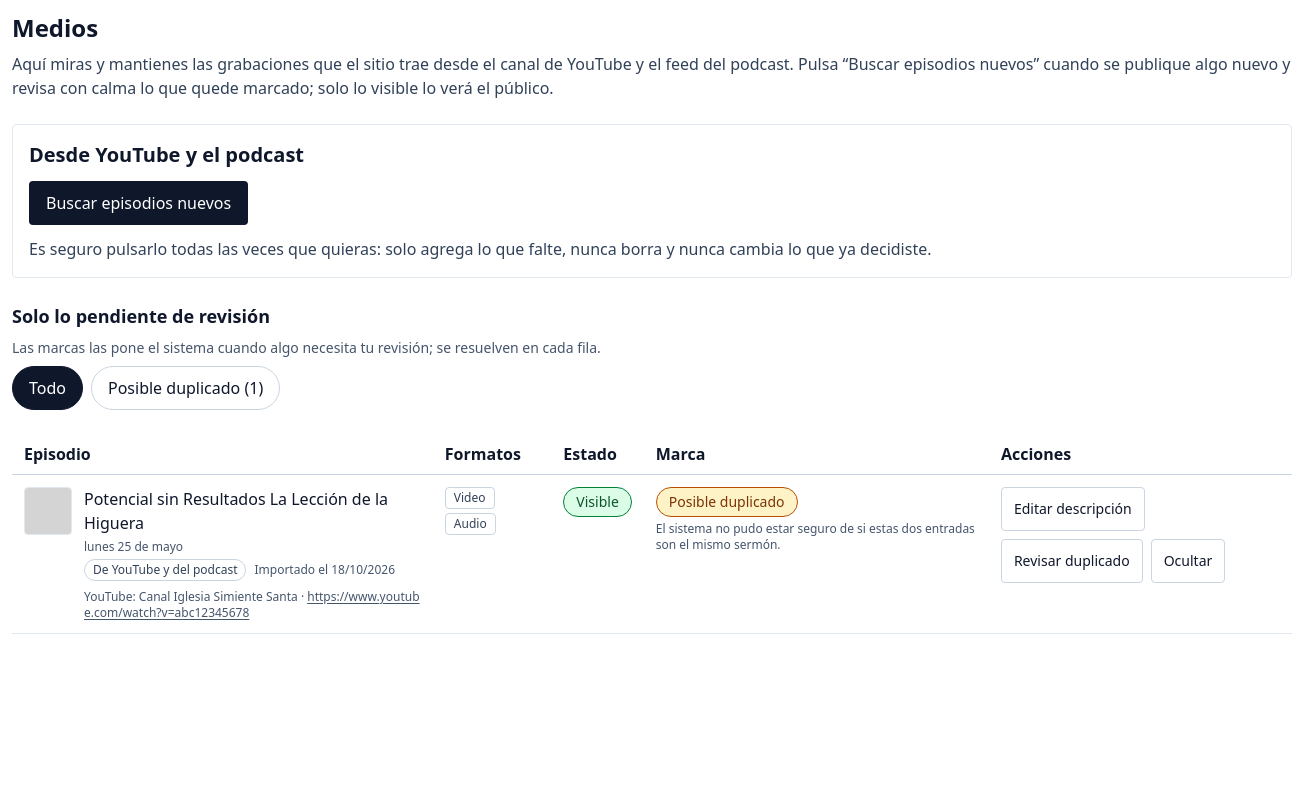
Scenario: MediosPage · catálogo mayor que la página (B3) › si la pareja ya no existe, se dice por qué en vez de no hacer nada
Expected: the table is shown, [12, 434, 1292, 634]
What coordinates should you click on to do the following:
click the button "Revisar duplicado"
I would click on:
 (1072, 561)
Its box is [1001, 539, 1143, 583].
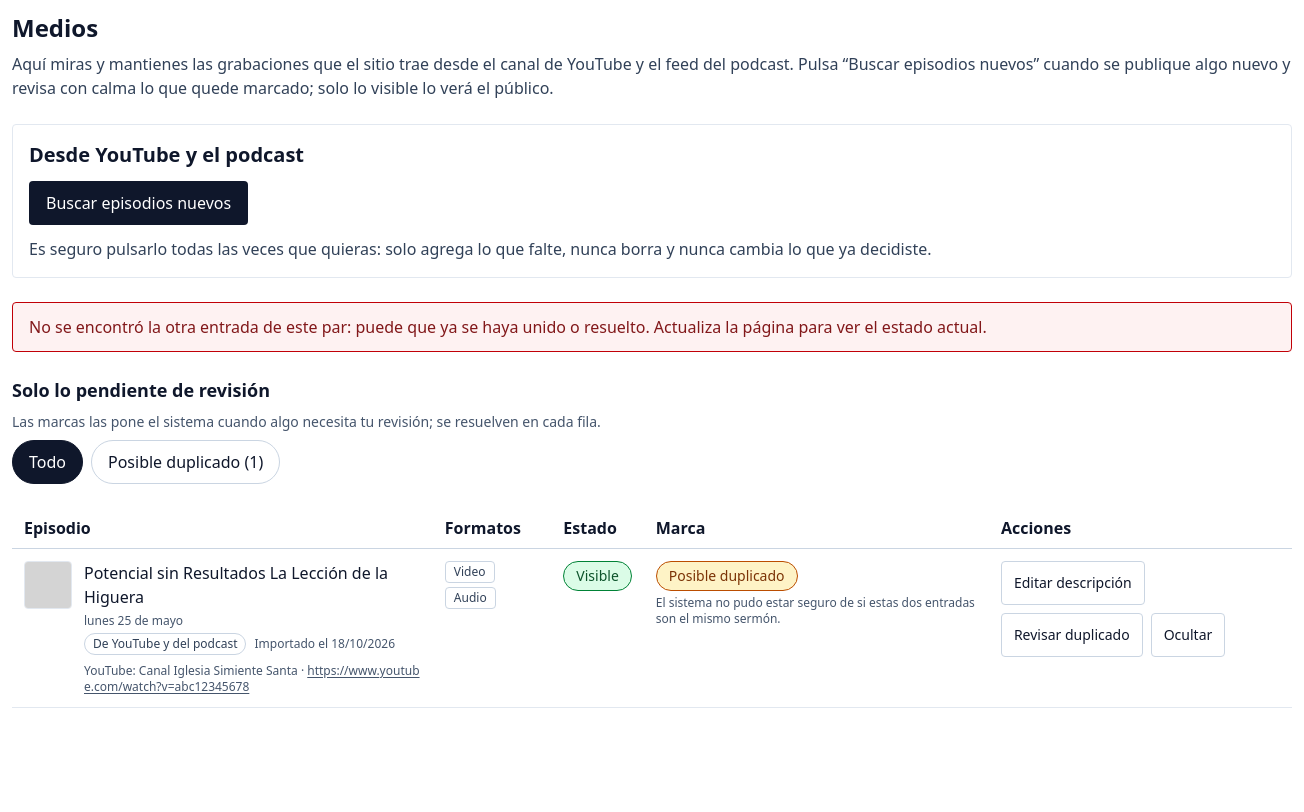
Now the text "No se encontró la otra entrada de este par: puede que ya se haya unido o resuelto. Actualiza la página para ver el estad" is shown, box [29, 316, 987, 338]
